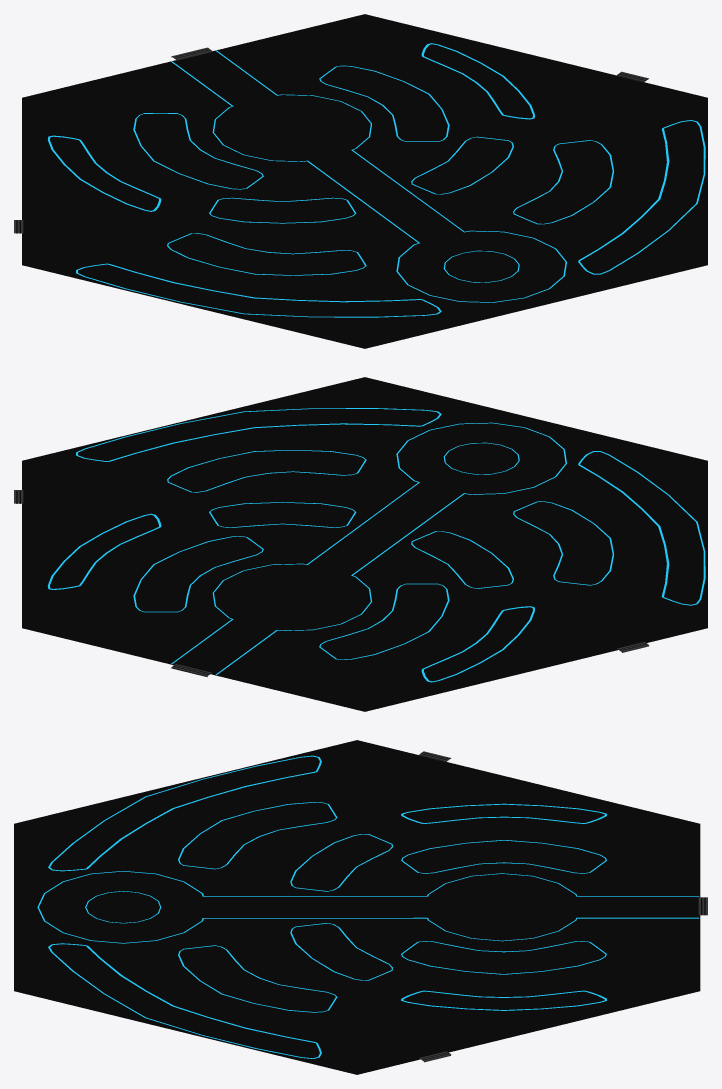
File: Chao_Monitoramento_SegundoAndar.gltf
3 views of the same model, one above another, from view 1: azimuth 30°, elevation 25°; view 2: azimuth 150°, elevation 25°; view 3: azimuth 270°, elevation 25° (orthographic).
Visible parts, largest first — view 1: Chao; view 2: Chao; view 3: Chao.
Boxes of the visible parts, x1,y1,x2,y2 form: Chao: (14, 14, 707, 348); Chao: (14, 377, 707, 711); Chao: (14, 740, 707, 1074).
Bounding box in the file's own units: 30 × 0.0496 × 26.28.
Materials: 2 (1 with a texture image).
